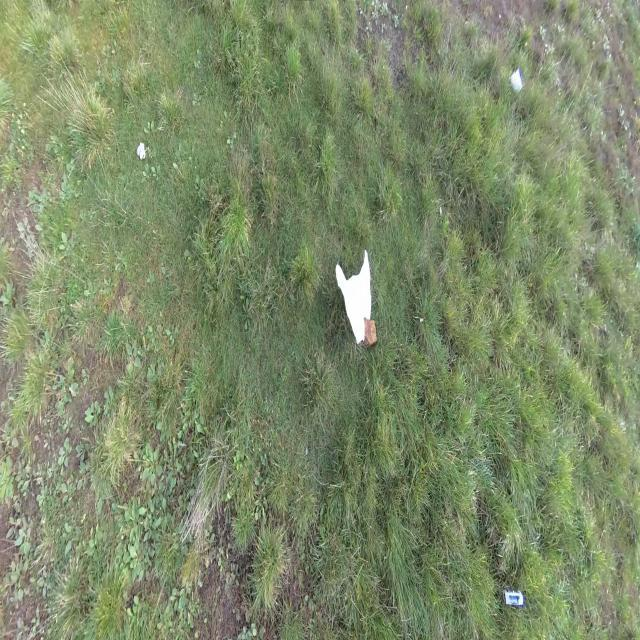rubbish: (335, 248, 372, 345), (508, 64, 525, 96), (503, 589, 524, 608), (137, 143, 147, 160)
